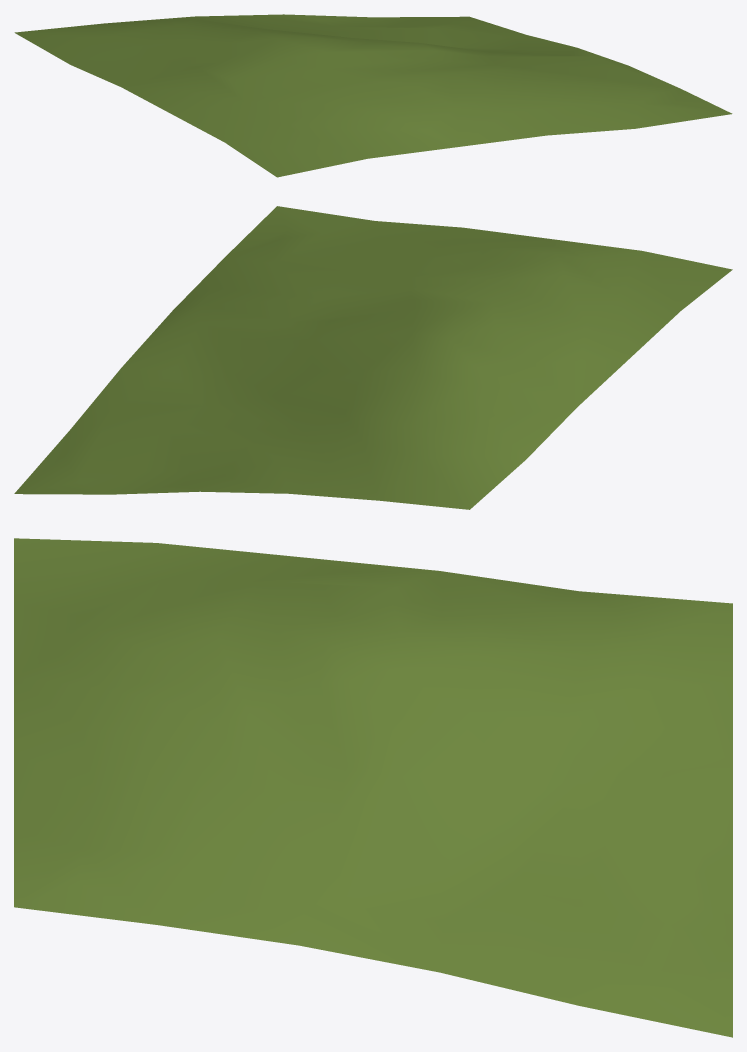
The model's file is rpgpp_ag_terrain_hill_01b_10x10m_2-2m.fbx.
3 views of the same model, one above another, from view 1: azimuth 30°, elevation 25°; view 2: azimuth 150°, elevation 25°; view 3: azimuth 270°, elevation 25° (orthographic). The views are drawn at different scales.
Visible parts, largest first — view 1: rpgpp_ag_terrain_hill_01b_10x10m_2-2m; view 2: rpgpp_ag_terrain_hill_01b_10x10m_2-2m; view 3: rpgpp_ag_terrain_hill_01b_10x10m_2-2m.
Boxes of the visible parts, <box> form: rpgpp_ag_terrain_hill_01b_10x10m_2-2m: <box>14,14,732,177</box>; rpgpp_ag_terrain_hill_01b_10x10m_2-2m: <box>14,206,732,509</box>; rpgpp_ag_terrain_hill_01b_10x10m_2-2m: <box>14,538,732,1037</box>.
Bounding box in the file's own units: 10 × 3.11 × 10.
